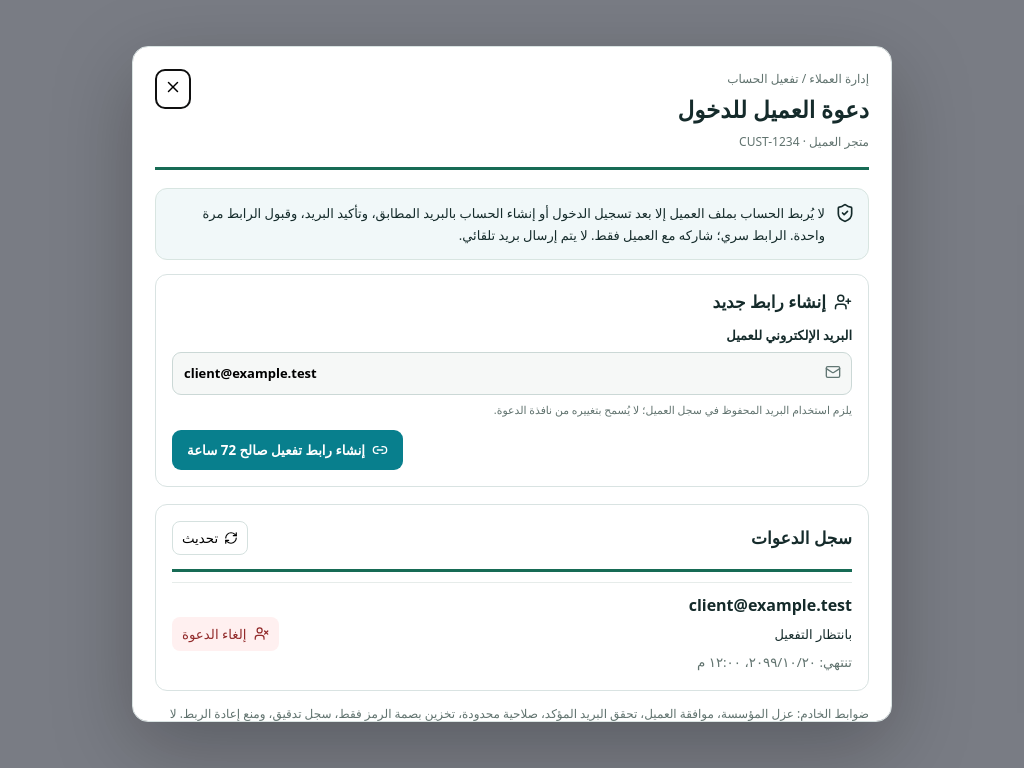
customer activation invitation dialog › creates a server invitation and exposes manual sharing without claiming an email was sent
Click the button "إنشاء رابط تفعيل صالح 72 ساعة" at (288, 450), box [172,430,403,470]
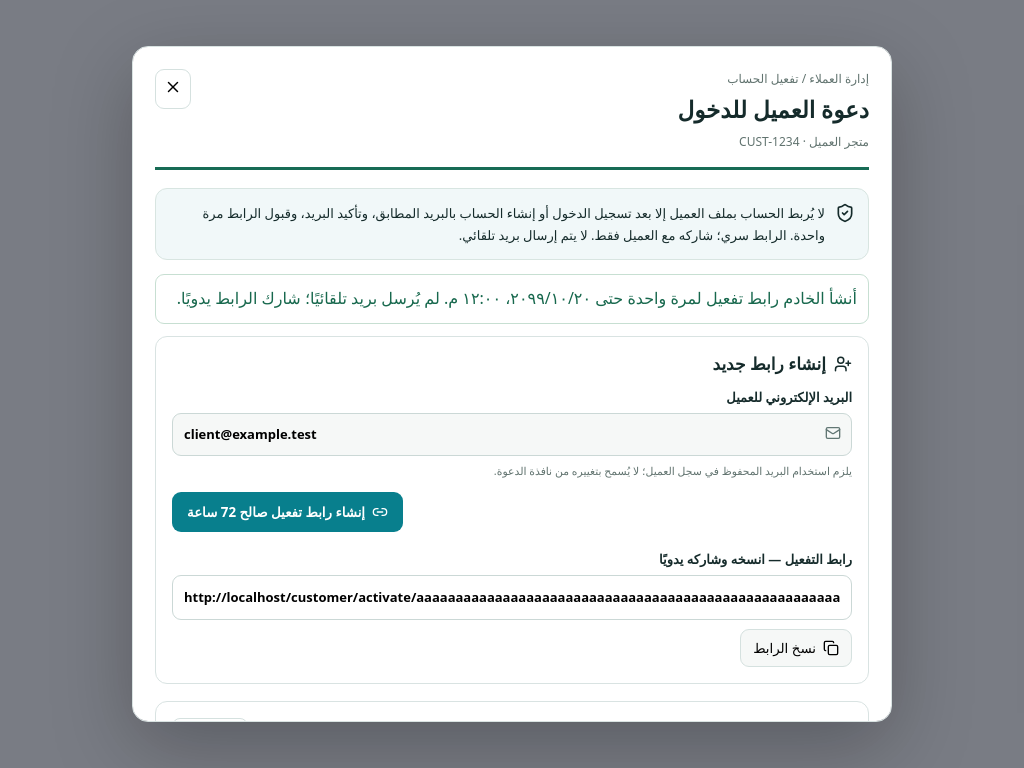
Expected: the text "لم يُرسل بريد تلقائيًا؛ شارك الرابط يدويًا" is shown, [177,287,857,309]
